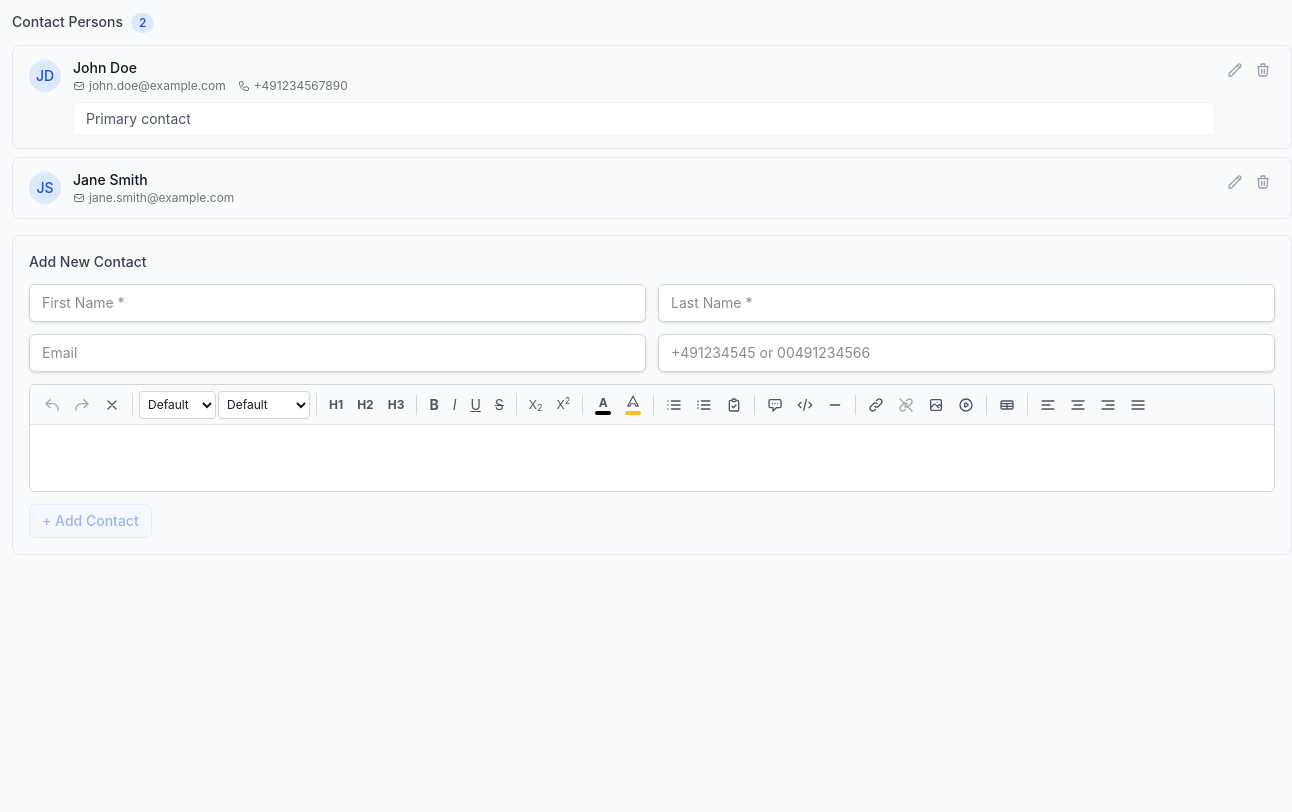
ContactPersonList › edit contact functionality › cancels edit mode when Cancel button is clicked
Click the button titled "Edit contact" in the row of "+491234567890".
click(1235, 70)  # box [1223, 58, 1247, 82]
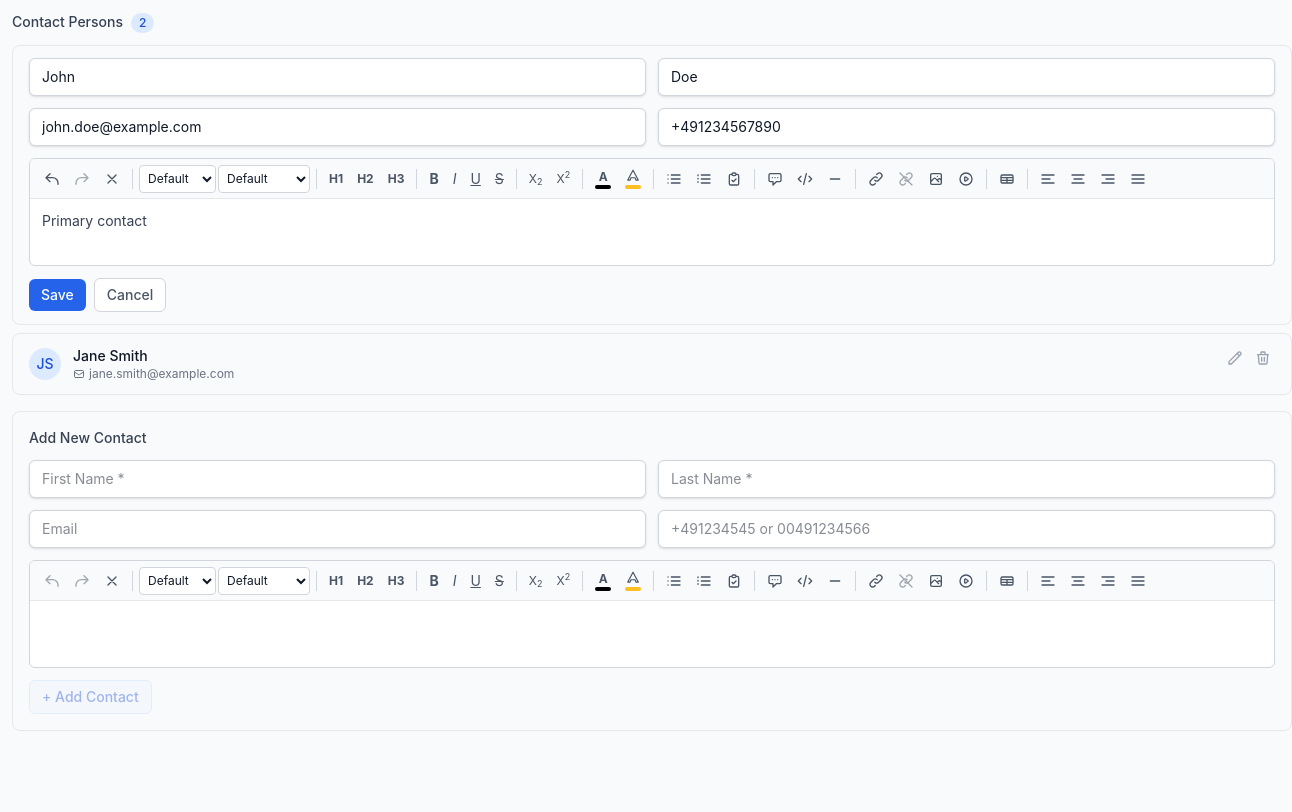
Click the button "Cancel".
click(130, 295)  # box [94, 278, 166, 312]
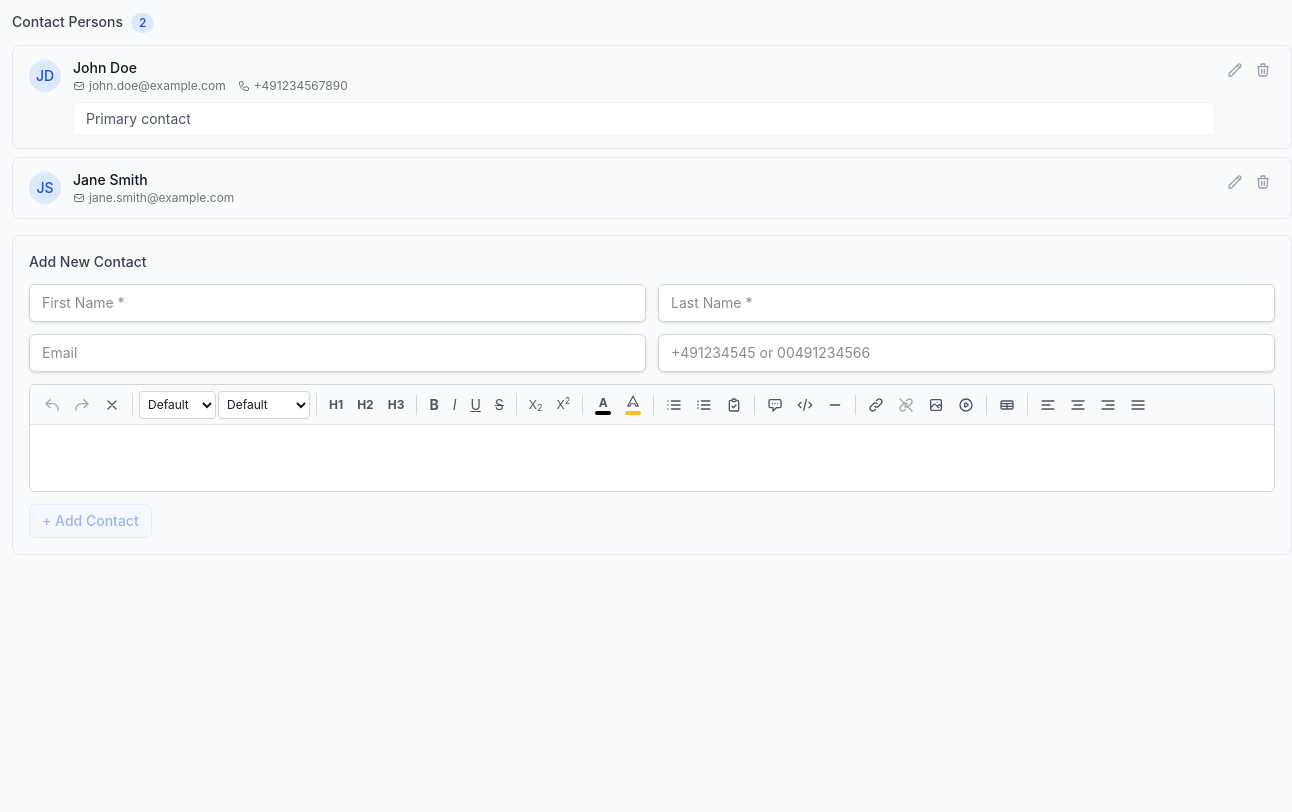
expect the button "Save" is gone: met
expect the button "Cancel" is gone: met
